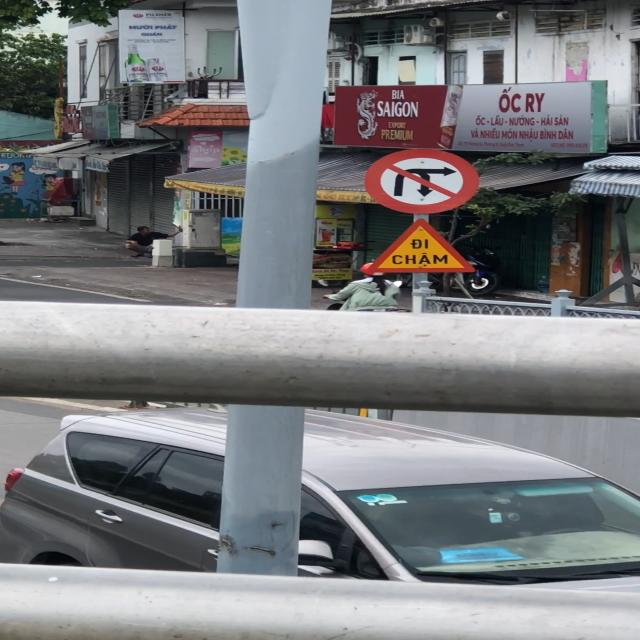Bien bao cam re phai va quay dau: (362, 146, 482, 217)
